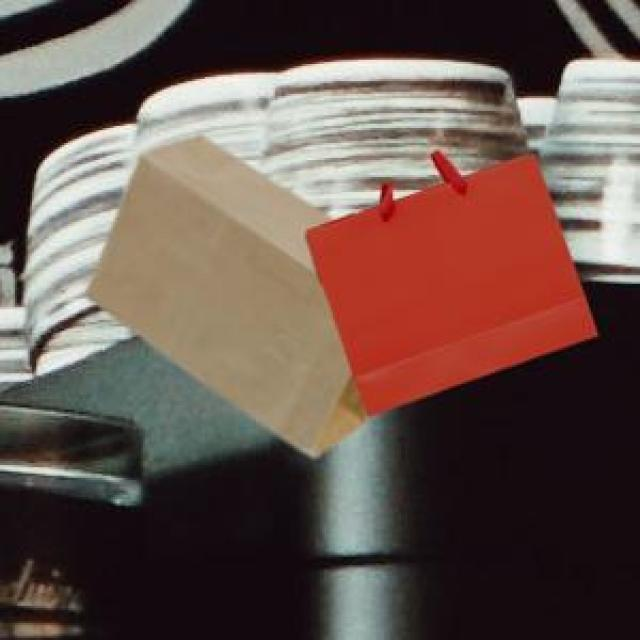paper: (83, 132, 363, 452), (301, 147, 593, 412)
